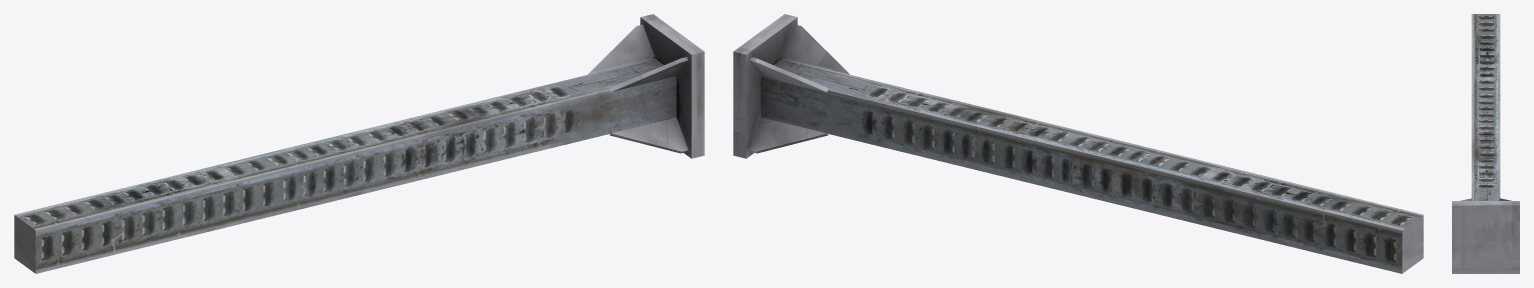
The model's file is OBJ_Smasher_anim.FBX.
3 renders of one model, left to right at view 1: azimuth 30°, elevation 25°; view 2: azimuth 150°, elevation 25°; view 3: azimuth 270°, elevation 25°, orthographic. The views are drawn at different scales.
Parts seen in each view (by area): view 1: OBJ_Smasher_anim; view 2: OBJ_Smasher_anim; view 3: OBJ_Smasher_anim.
Boxes of the visible parts, box(x1,y1,x2,y2) form: OBJ_Smasher_anim: box(14, 14, 704, 273); OBJ_Smasher_anim: box(733, 14, 1423, 273); OBJ_Smasher_anim: box(1452, 14, 1519, 273).
Size of the model in its own units: 15.72 by 2.39 by 2.14.
1 material, 1 textured.
